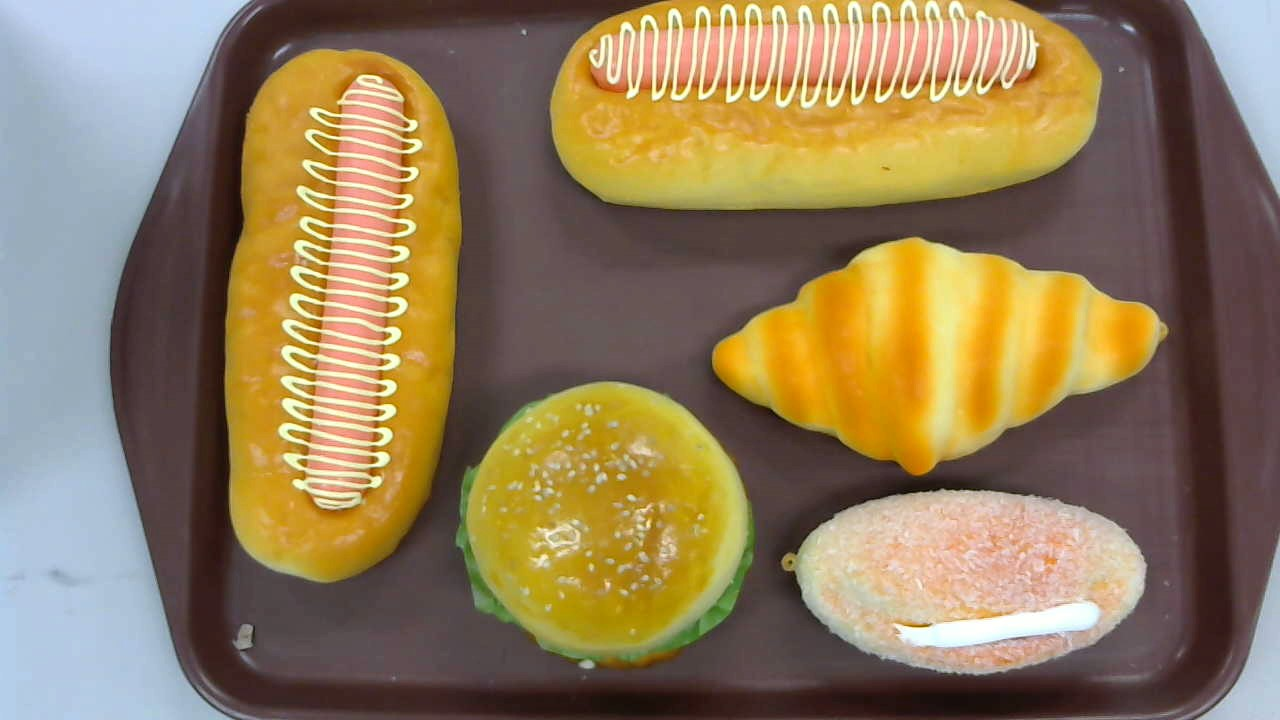coconut: (779, 489, 1147, 677)
croissant: (710, 236, 1169, 477)
hamburger: (453, 381, 754, 668)
hot dog: (222, 49, 463, 582), (548, 1, 1103, 211)
